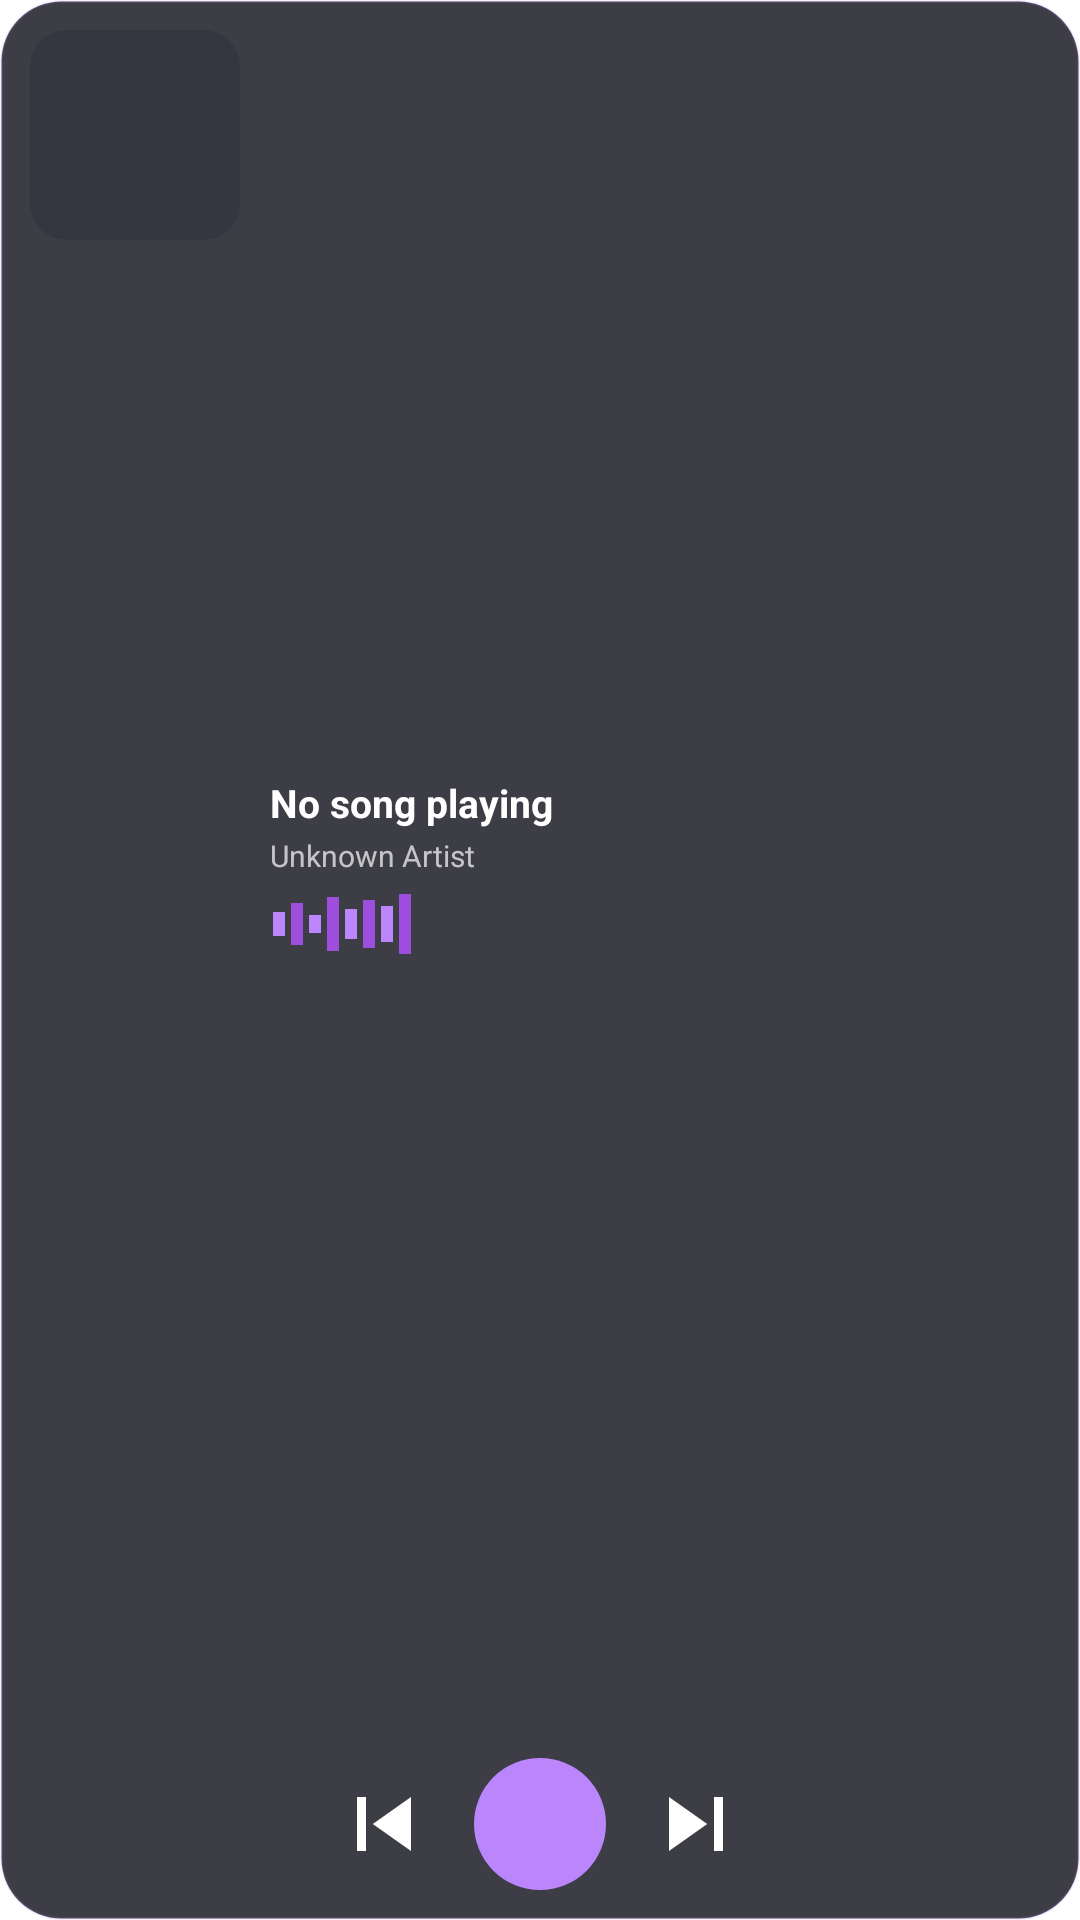

Where icons sit on this 1080 x 1920 app screen, as (x1, y1, x2, y2):
Next: (669, 1797, 723, 1851)
Previous: (357, 1797, 411, 1851)
